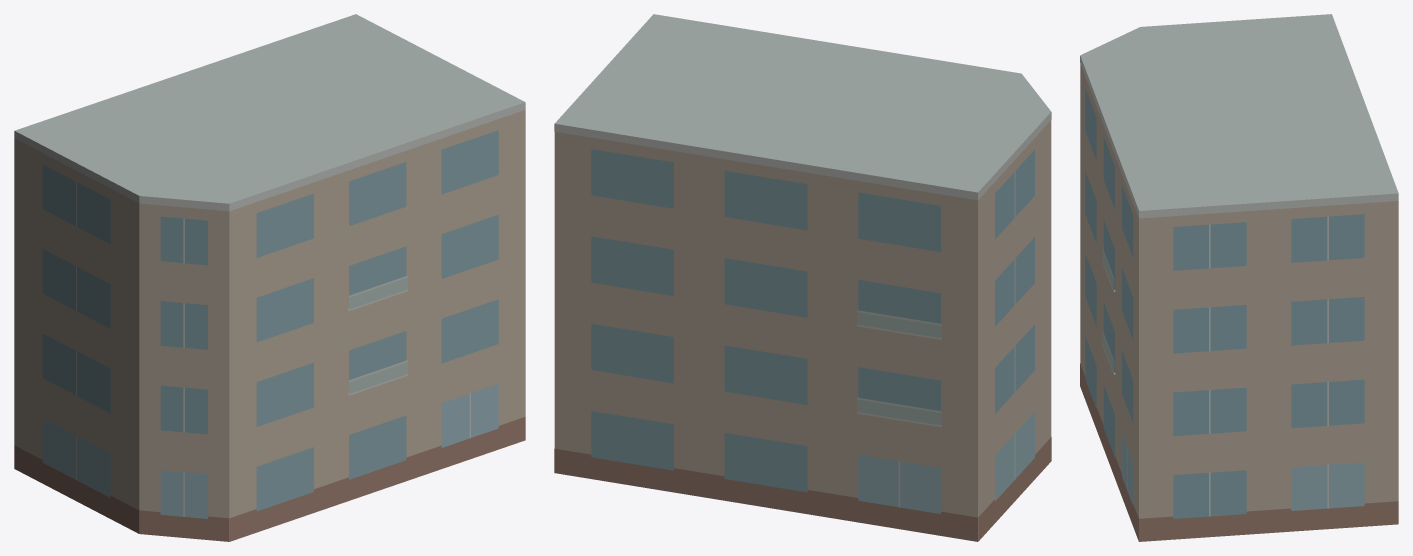
The model's file is survey-upis-33046148.glb.
The picture shows the model from 3 angles, left to right: view 1: azimuth 30°, elevation 25°; view 2: azimuth 150°, elevation 25°; view 3: azimuth 270°, elevation 25°; orthographic projection. The views are drawn at different scales.
Parts seen in each view (by area): view 1: survey-upis-33046148.tmp; view 2: survey-upis-33046148.tmp; view 3: survey-upis-33046148.tmp.
Part boxes in pixels (left/top/right/bottom): survey-upis-33046148.tmp: left=14, top=14, right=525, bottom=541; survey-upis-33046148.tmp: left=554, top=14, right=1051, bottom=541; survey-upis-33046148.tmp: left=1080, top=14, right=1398, bottom=541.
Bounding box in the file's own units: 13.87 × 10.85 × 9.48.
